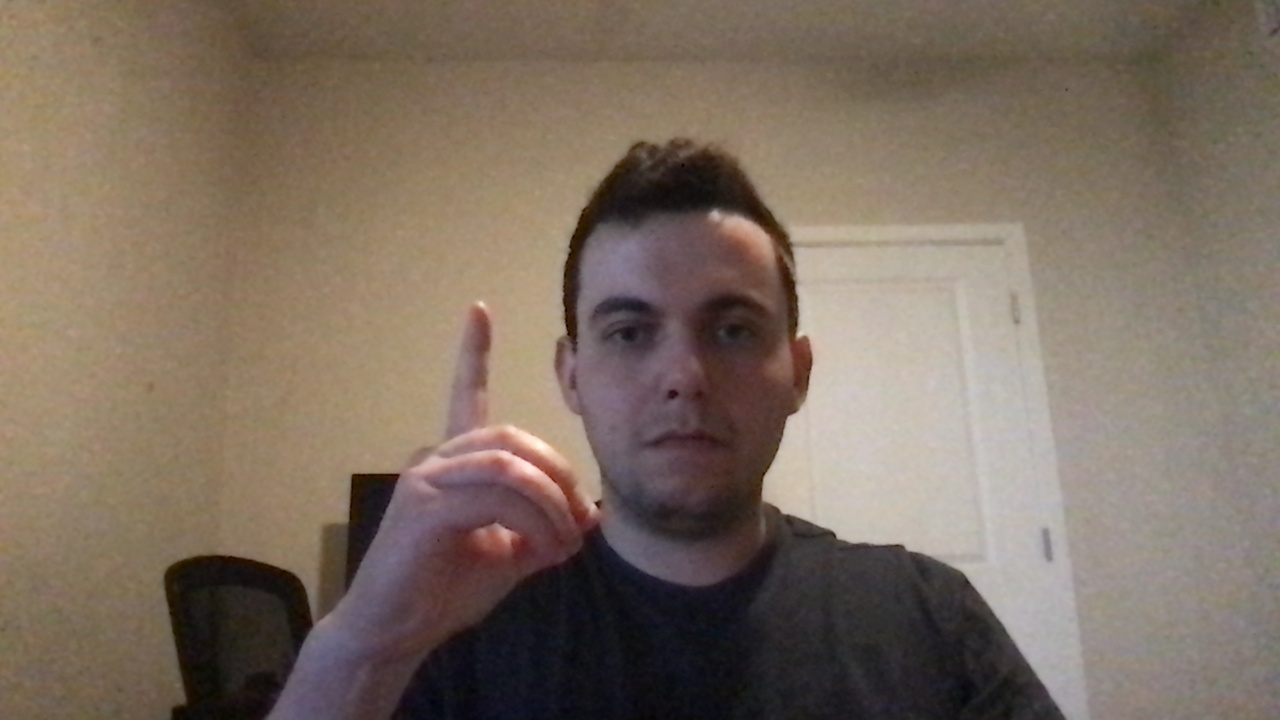d: (321, 292, 610, 648)
